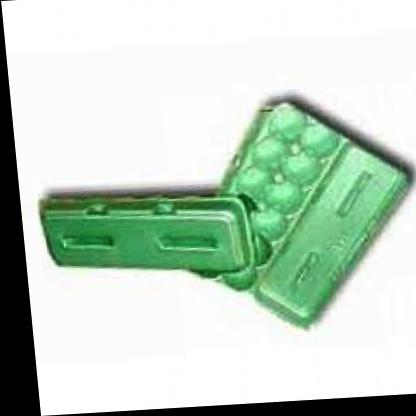Paper: (7, 72, 416, 372)
